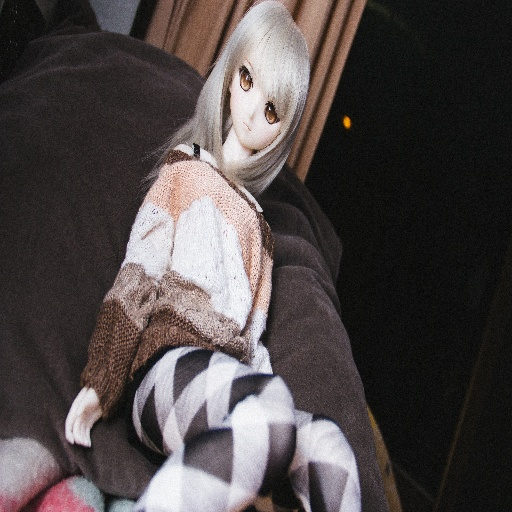hand: (64, 379, 92, 457)
